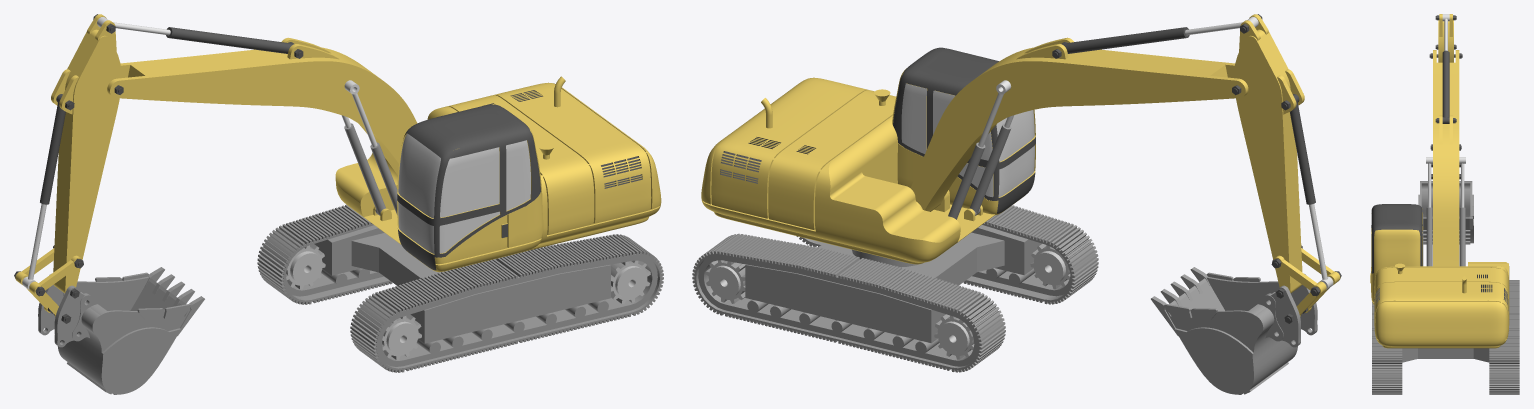
Rendered from Escavator.glb.
3 renders of one model, left to right at view 1: azimuth 30°, elevation 25°; view 2: azimuth 150°, elevation 25°; view 3: azimuth 270°, elevation 25°, orthographic. The views are drawn at different scales.
Visible parts, largest first — view 1: excavator; view 2: excavator; view 3: excavator.
Boxes of the visible parts, x1=… form: excavator: x1=14, y1=14, x2=663, y2=394; excavator: x1=692, y1=14, x2=1341, y2=394; excavator: x1=1370, y1=14, x2=1519, y2=394.
Size of the model in its own units: 627 by 376 by 218.
